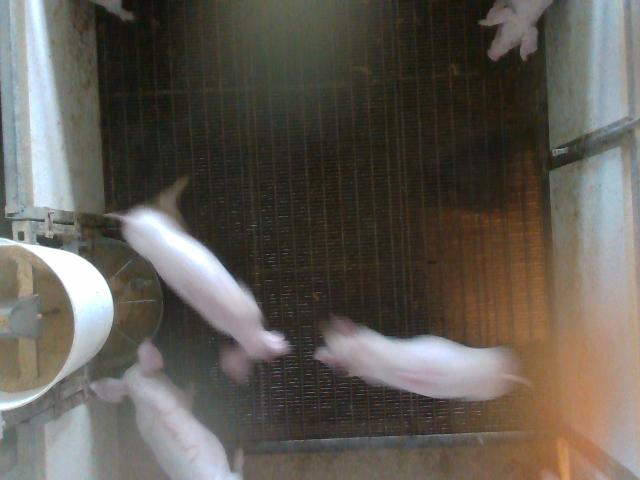pig-3: (91, 340, 241, 479)
pig-4: (315, 316, 530, 401)
